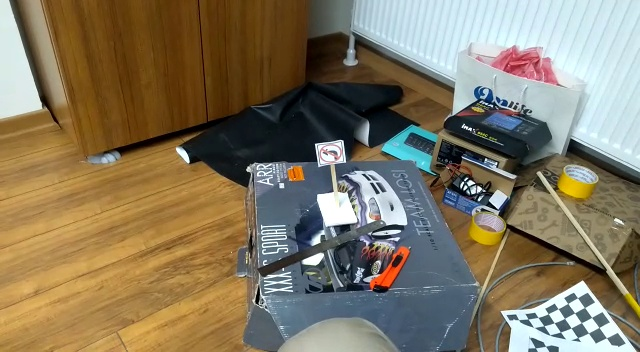sola_donulmez: (315, 141, 345, 165)
